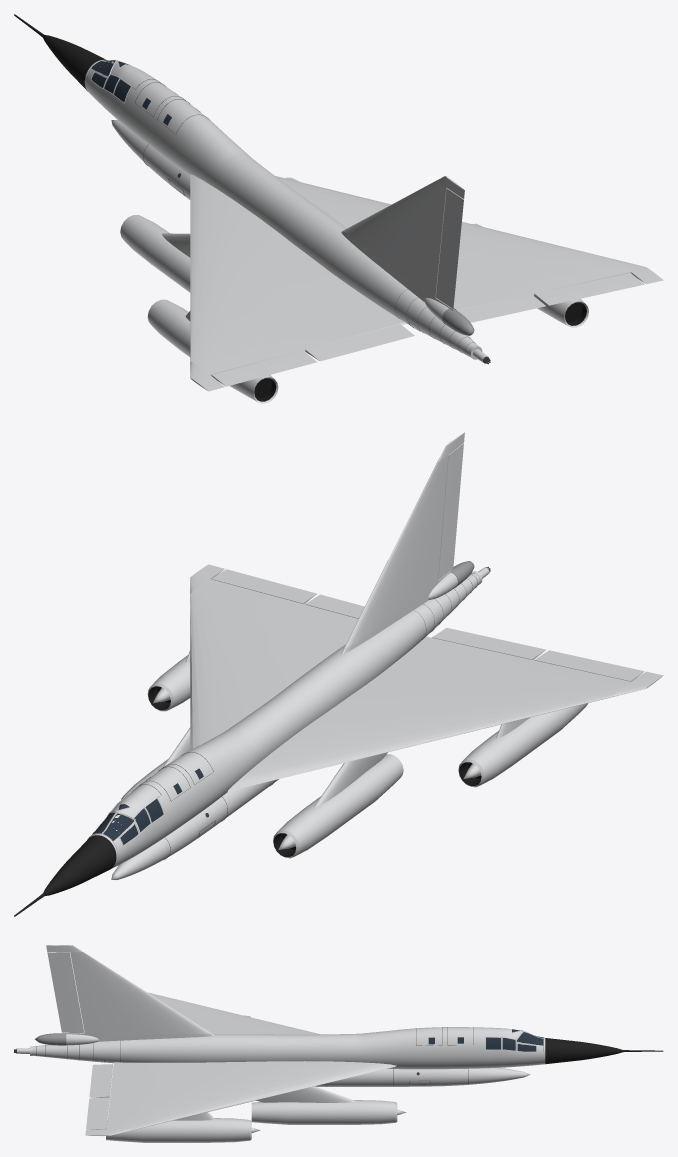
The picture shows the model from 3 angles, top to bottom: view 1: azimuth 30°, elevation 25°; view 2: azimuth 150°, elevation 25°; view 3: azimuth 270°, elevation 25°; orthographic projection. The views are drawn at different scales.
Parts seen in each view (by area): view 1: Wing L, Fuselage, Wing R, Vertical Fin, Engine Inboard L, Engine Outboard L, Rudder, Belly Pod, Elevon Inboard L, Elevon Outboard R, Elevon Outboard L, Elevon Inboard R (+3 smaller); view 2: Wing L, Fuselage, Wing R, Vertical Fin, Engine Inboard L, Engine Outboard L, Belly Pod, Rudder, Engine Outboard R, Cockpit Glass, Elevon Inboard L, Elevon Outboard R (+3 smaller); view 3: Fuselage, Wing R, Vertical Fin, Engine Inboard R, Engine Outboard R, Belly Pod, Wing L, Rudder, Cockpit Glass, Elevon Inboard R, Elevon Outboard R, Tail Radar.
Part boxes in pixels (left/top/right/bottom): Wing L: left=190, top=174, right=406, bottom=391; Fuselage: left=42, top=35, right=477, bottom=356; Wing R: left=275, top=176, right=663, bottom=310; Vertical Fin: left=341, top=176, right=464, bottom=310; Engine Inboard L: left=120, top=215, right=190, bottom=292; Engine Outboard L: left=147, top=299, right=278, bottom=403; Rudder: left=436, top=188, right=463, bottom=308; Belly Pod: left=111, top=119, right=190, bottom=199; Elevon Inboard L: left=305, top=324, right=414, bottom=361; Elevon Outboard R: left=534, top=273, right=644, bottom=305; Elevon Outboard L: left=211, top=350, right=317, bottom=386; Elevon Inboard R: left=457, top=294, right=545, bottom=322; Wing L: left=227, top=636, right=663, bottom=791; Fuselage: left=43, top=573, right=479, bottom=895; Wing R: left=190, top=564, right=358, bottom=750; Vertical Fin: left=341, top=432, right=464, bottom=654; Engine Inboard L: left=273, top=752, right=403, bottom=858; Engine Outboard L: left=458, top=703, right=588, bottom=787; Belly Pod: left=111, top=779, right=278, bottom=880; Rudder: left=438, top=443, right=463, bottom=580; Engine Outboard R: left=147, top=650, right=190, bottom=711; Cockpit Glass: left=92, top=768, right=203, bottom=844; Elevon Inboard L: left=432, top=628, right=545, bottom=659; Elevon Outboard R: left=212, top=569, right=316, bottom=604; Fuselage: left=33, top=1027, right=622, bottom=1069; Wing R: left=85, top=1061, right=396, bottom=1136; Vertical Fin: left=46, top=945, right=214, bottom=1041; Engine Inboard R: left=251, top=1086, right=406, bottom=1124; Engine Outboard R: left=106, top=1112, right=260, bottom=1142; Belly Pod: left=315, top=1067, right=530, bottom=1086; Wing L: left=147, top=992, right=319, bottom=1034; Rudder: left=47, top=952, right=84, bottom=1032; Cockpit Glass: left=428, top=1029, right=543, bottom=1051; Elevon Inboard R: left=89, top=1064, right=112, bottom=1097; Elevon Outboard R: left=86, top=1097, right=109, bottom=1129; Tail Radar: left=35, top=1033, right=98, bottom=1045.
Bounding box in the file's own units: 17.3 × 8.1 × 31.21.
